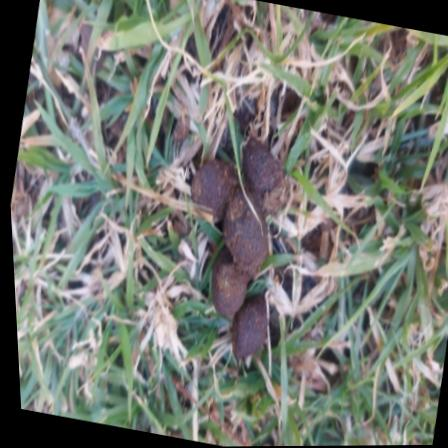dog-poop: (150, 130, 326, 372)
